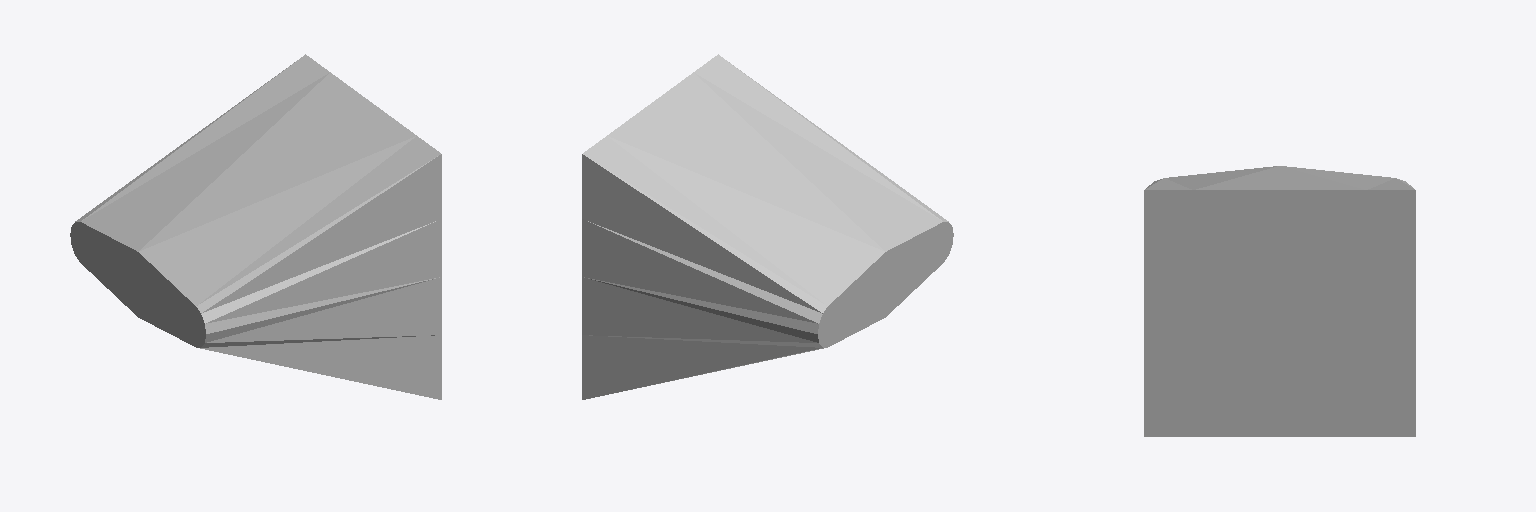
Rendered from fant_wing_1-1_block.obj.
3 views of the same model, side by side, from view 1: azimuth 30°, elevation 25°; view 2: azimuth 150°, elevation 25°; view 3: azimuth 270°, elevation 25° (orthographic).
Visible parts, largest first — view 1: fant_wing_1-1_block_Cube.015; view 2: fant_wing_1-1_block_Cube.015; view 3: fant_wing_1-1_block_Cube.015.
Part boxes in pixels (bbox=[...]): fant_wing_1-1_block_Cube.015: bbox=[70, 54, 441, 399]; fant_wing_1-1_block_Cube.015: bbox=[582, 54, 953, 399]; fant_wing_1-1_block_Cube.015: bbox=[1144, 166, 1415, 436].
Bounding box in the file's own units: 1 × 1 × 1.